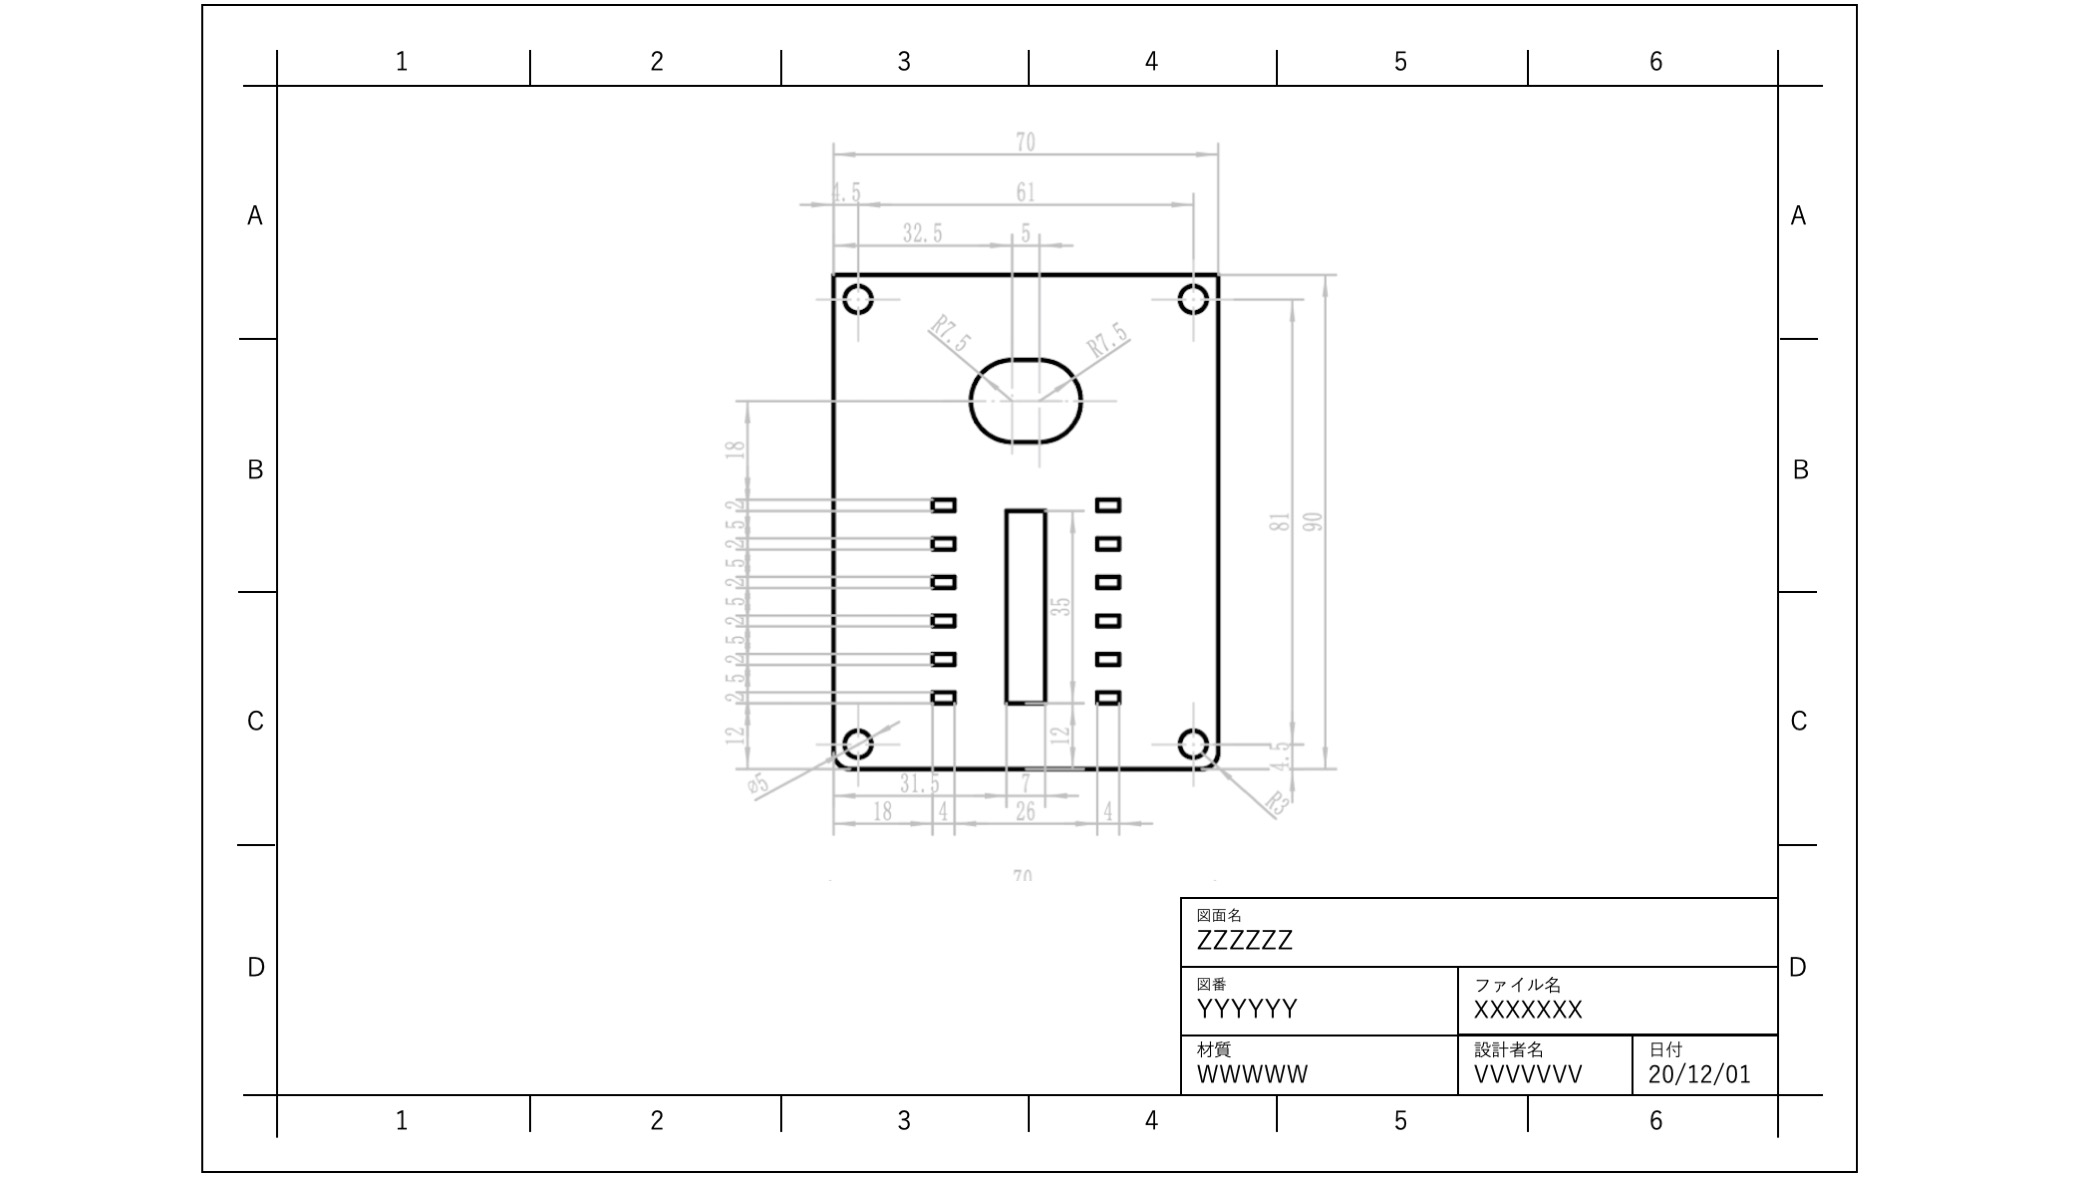circle: (828, 265, 878, 313), (1170, 275, 1217, 313), (1173, 722, 1210, 761), (842, 720, 877, 760)
rectangle: (998, 497, 1051, 712), (914, 568, 966, 597), (1085, 679, 1131, 711), (1085, 639, 1129, 671), (923, 639, 961, 676), (925, 490, 974, 518), (1087, 485, 1126, 518), (916, 606, 961, 634), (1092, 562, 1126, 597), (922, 681, 961, 709), (922, 531, 971, 552), (1087, 523, 1129, 547), (1090, 606, 1126, 632)
round_rectangle: (963, 350, 1090, 456)
